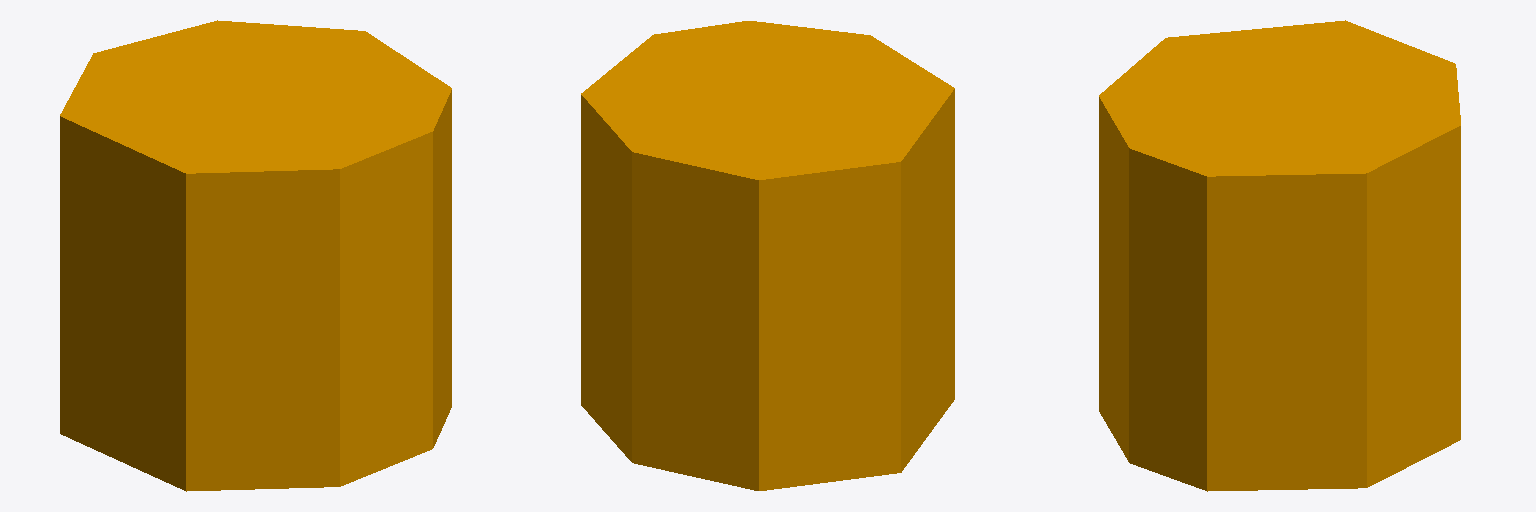
robot.urdf — object:
<?xml version="1.0"?>
<robot name="object">
  <link name="object">
    <visual>
      <origin xyz="0 0 0"/>
      <geometry>
        <mesh filename="meshes/generated/col_049.obj" scale="0.03 0.03 0.03"/>
      </geometry>
    </visual>
    <collision>
      <origin xyz="0 0 0"/>
      <geometry>
        <mesh filename="meshes/generated/col_049.obj" scale="0.03 0.03 0.03"/>
      </geometry>
    </collision>
    <inertial>
      <density value="1000.0"/>
    </inertial>
  </link>
</robot>

--- What the picture shows (computed from the rendered views, not written in the file) ---
The picture shows the robot from 3 angles, left to right: view 1: azimuth 30°, elevation 25°; view 2: azimuth 150°, elevation 25°; view 3: azimuth 270°, elevation 25°; orthographic projection.
Model object with 1 links and 0 joints (none), rooted at object, posed all joints at 0.
Links seen in each view (by area): view 1: object; view 2: object; view 3: object.
Boxes of the visible links, <box> form: object: <box>60,20,451,491</box>; object: <box>581,21,954,490</box>; object: <box>1099,20,1460,491</box>.
Bounding box of the posed robot: 0.0638 × 0.0627 × 0.06 m (x, y, z).
1 mesh visuals loaded from 1 distinct referenced files (1 OBJ).
